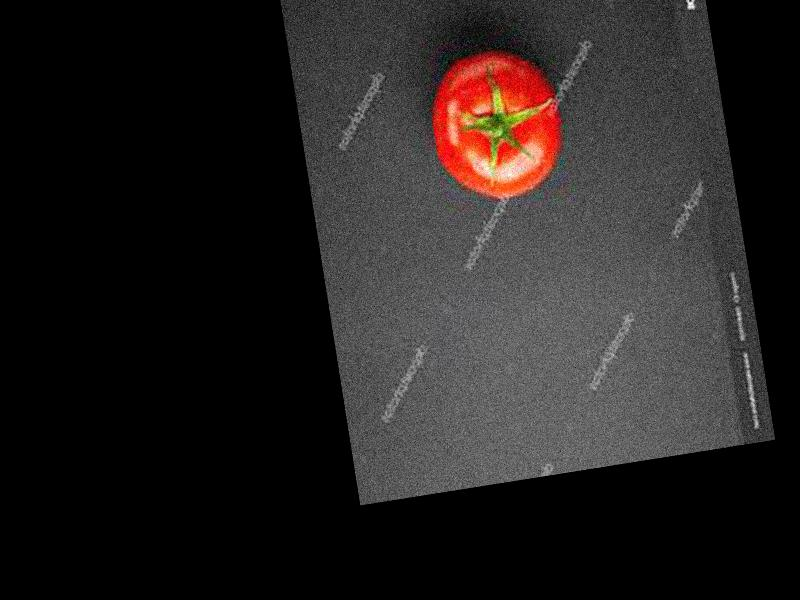Tomato: (421, 43, 572, 210)
